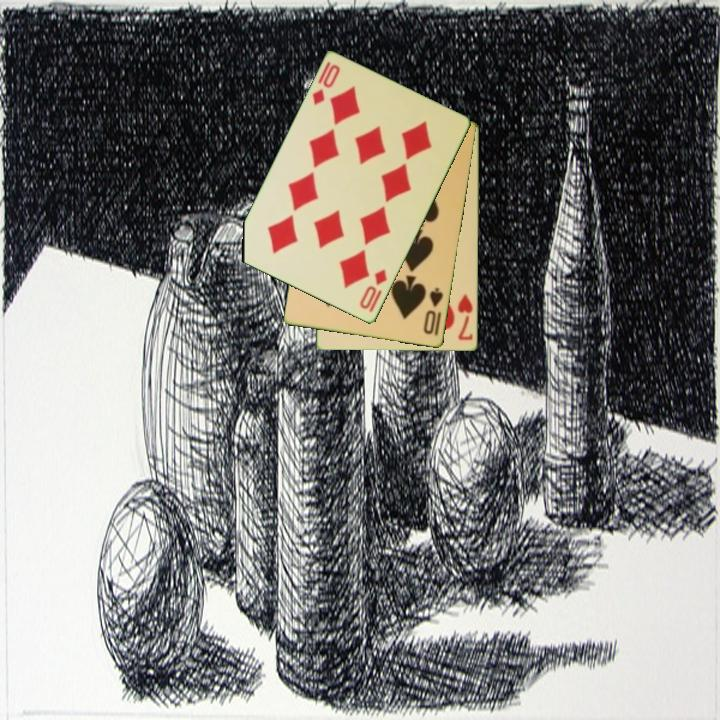10d: (309, 58, 343, 108), (356, 266, 390, 313)
10s: (420, 284, 446, 339)
7h: (454, 291, 476, 343)
